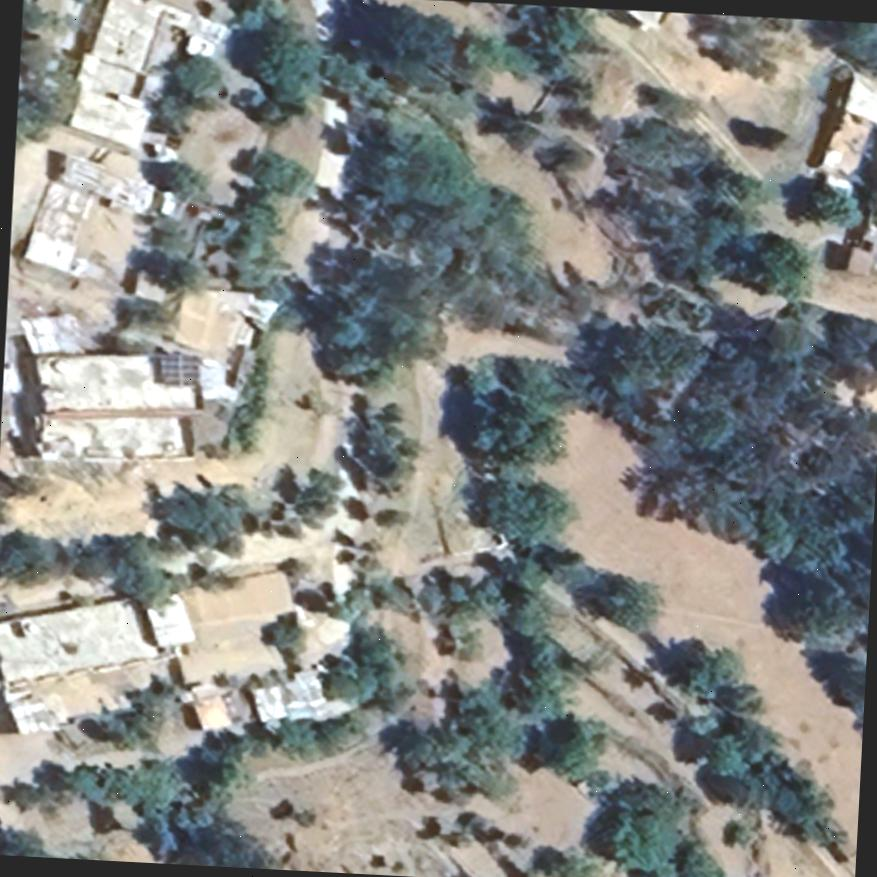Solarpanel: (154, 348, 203, 387)
